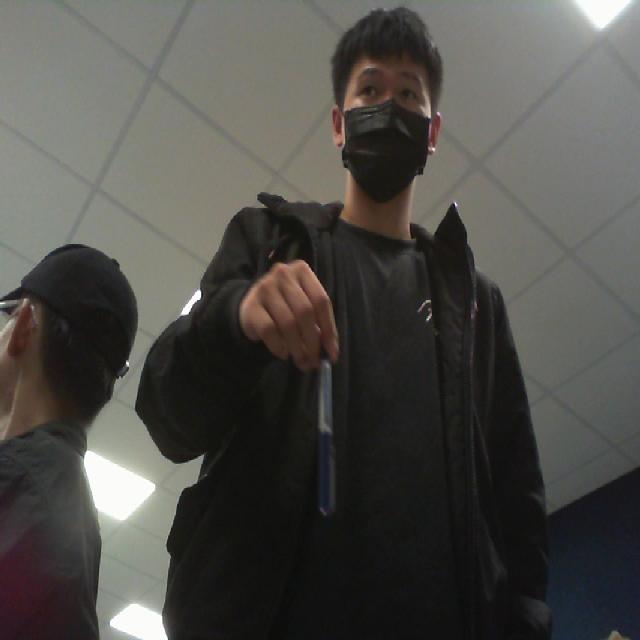Pen: (300, 325, 353, 541)
